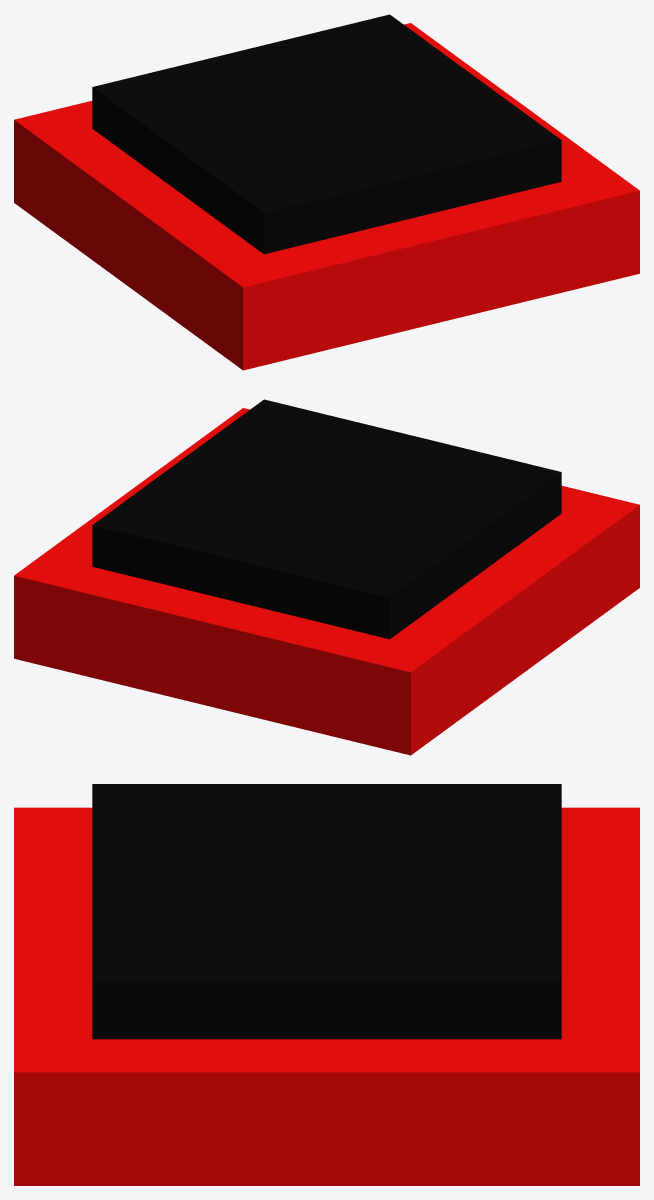
The model's file is RedHoldNote.obj.
The picture shows the model from 3 angles, top to bottom: view 1: azimuth 30°, elevation 25°; view 2: azimuth 150°, elevation 25°; view 3: azimuth 270°, elevation 25°; orthographic projection. The views are drawn at different scales.
Visible parts, largest first — view 1: Base, Top; view 2: Base, Top; view 3: Base, Top.
Boxes of the visible parts, left/top/right/bottom form: Base: left=14, top=23, right=639, bottom=370; Top: left=92, top=14, right=561, bottom=254; Base: left=14, top=408, right=639, bottom=755; Top: left=92, top=399, right=561, bottom=639; Base: left=14, top=807, right=639, bottom=1185; Top: left=92, top=784, right=561, bottom=1039.
Size of the model in its own units: 2 by 0.6 by 2.
